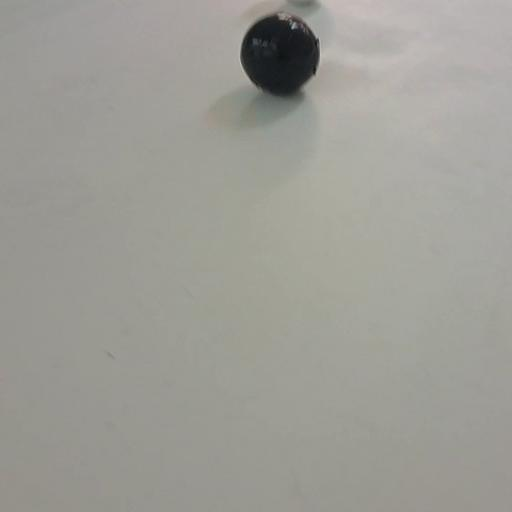dead: (239, 10, 321, 95)
